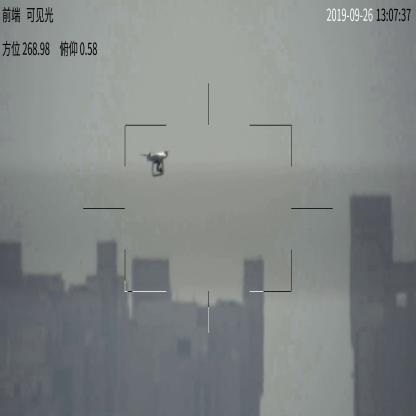uav: (137, 146, 173, 178)
